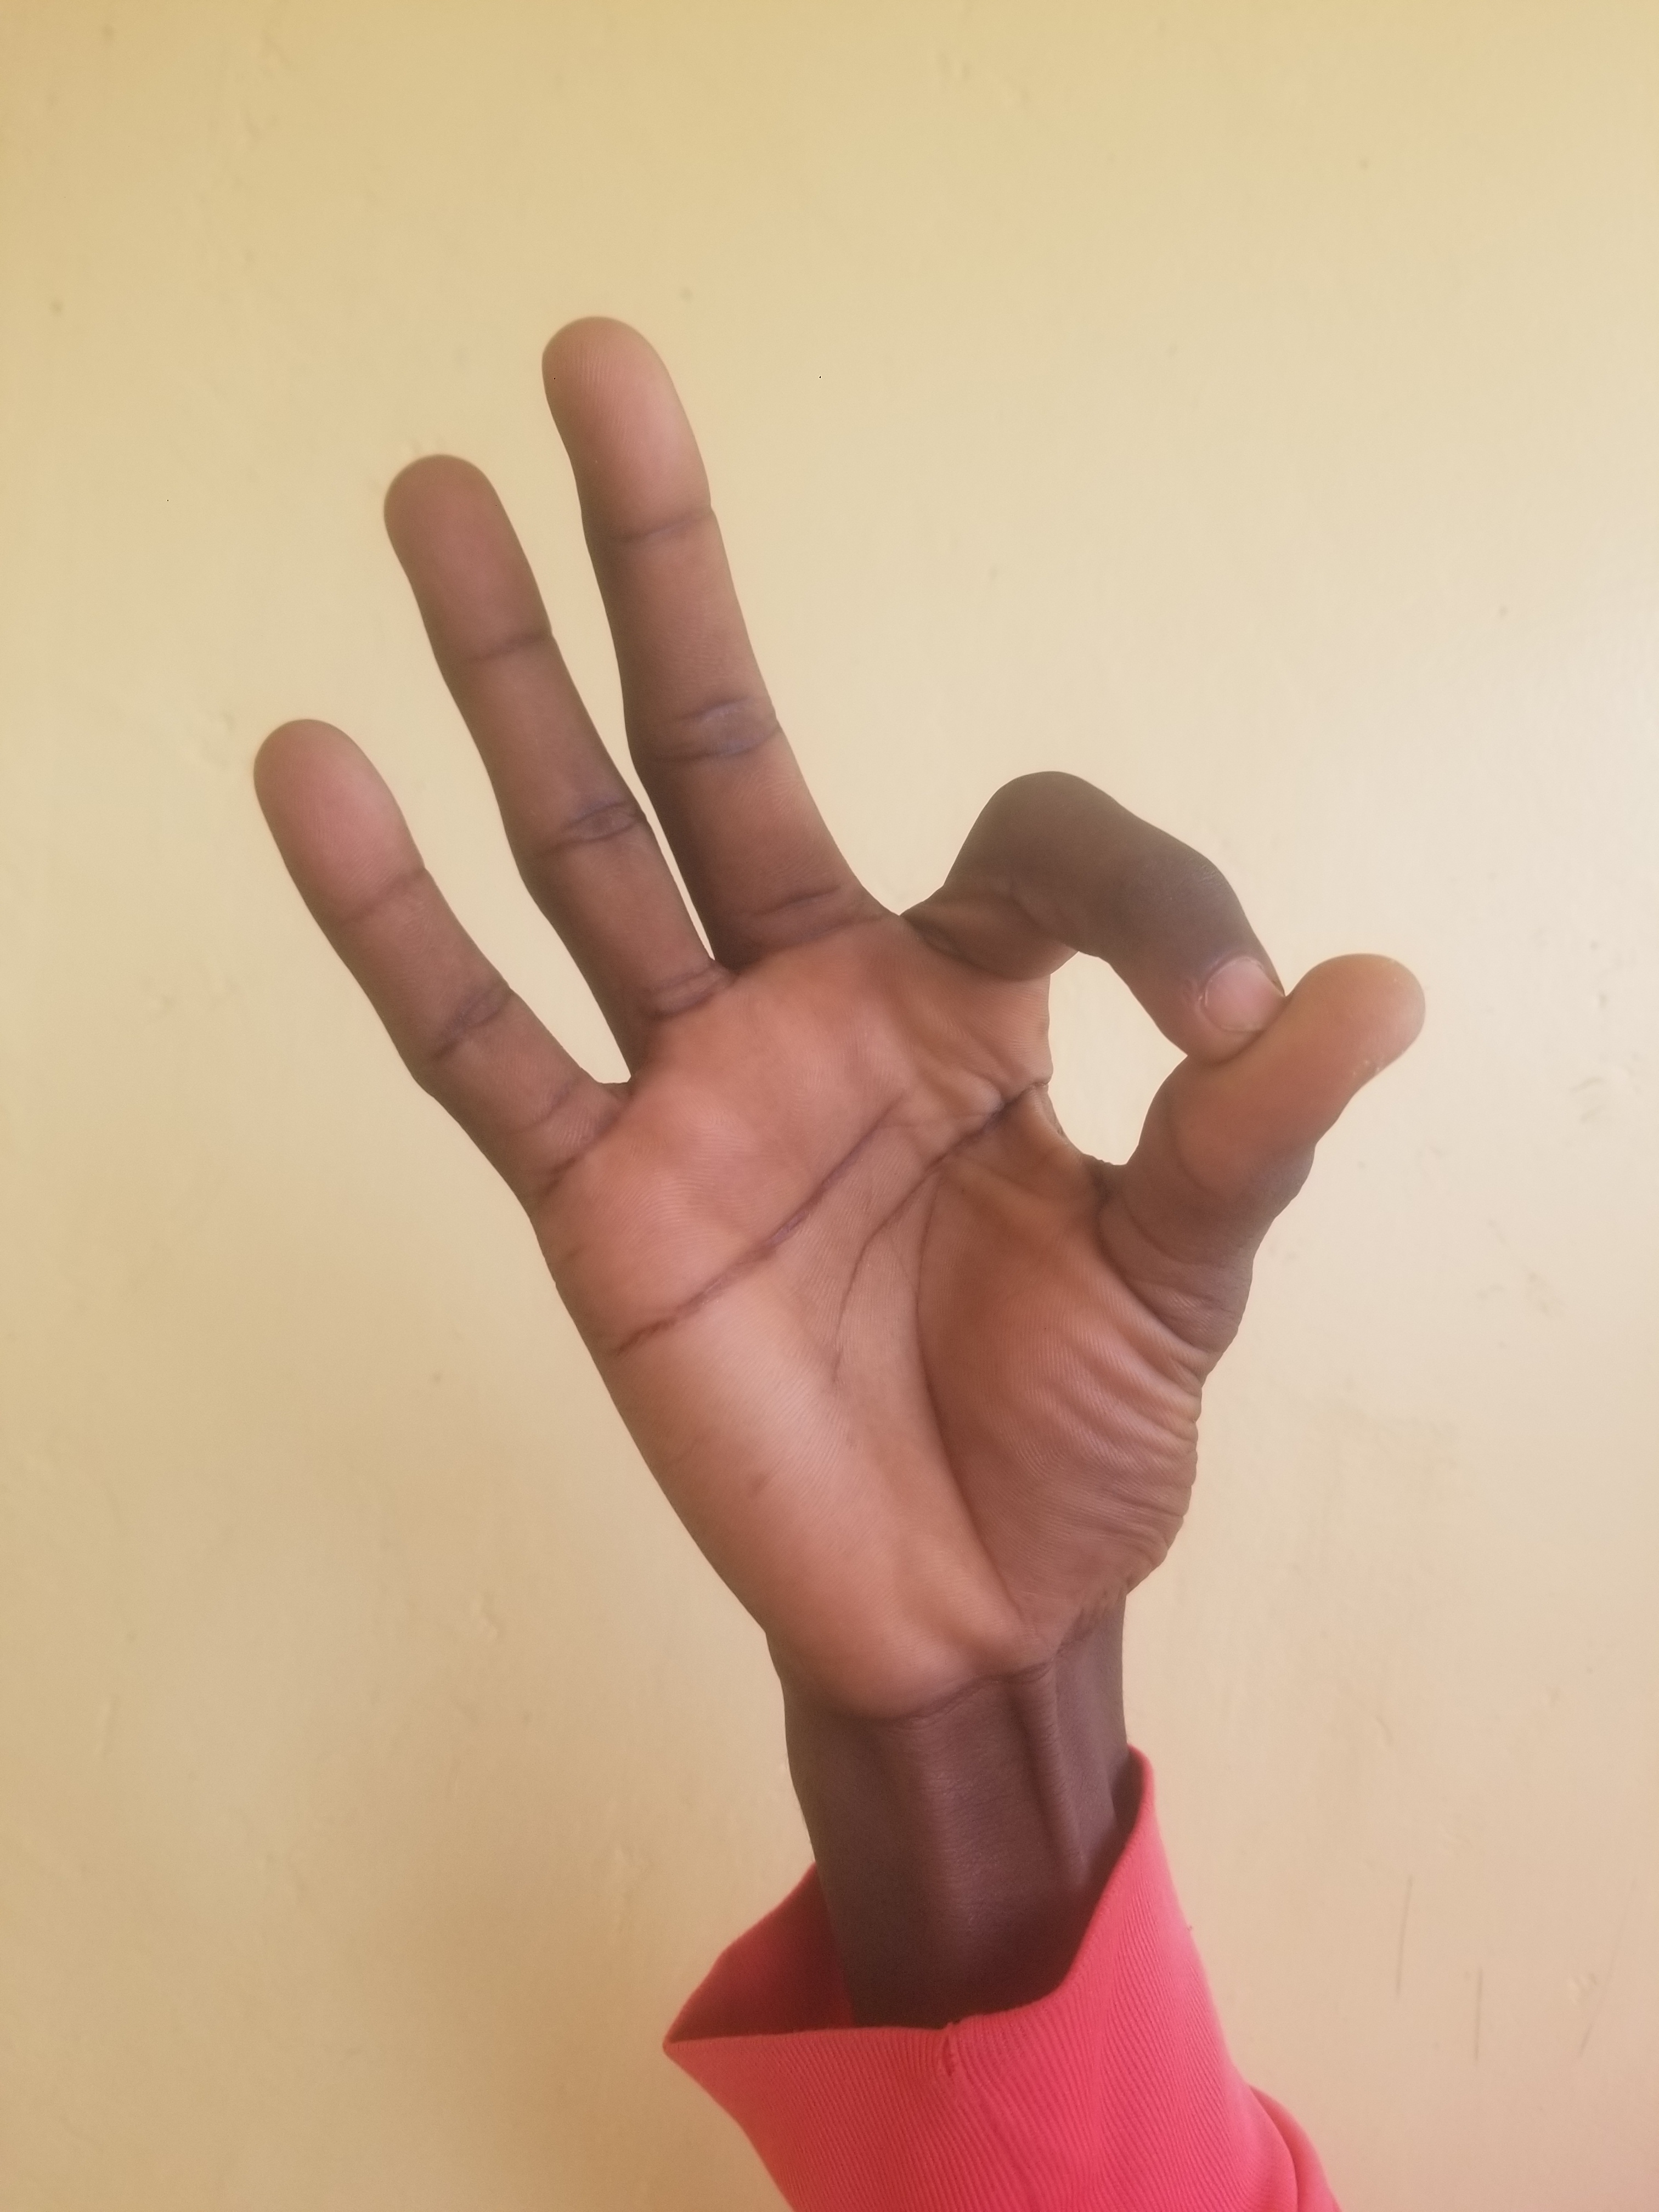ok: (129, 345, 1530, 1911)
